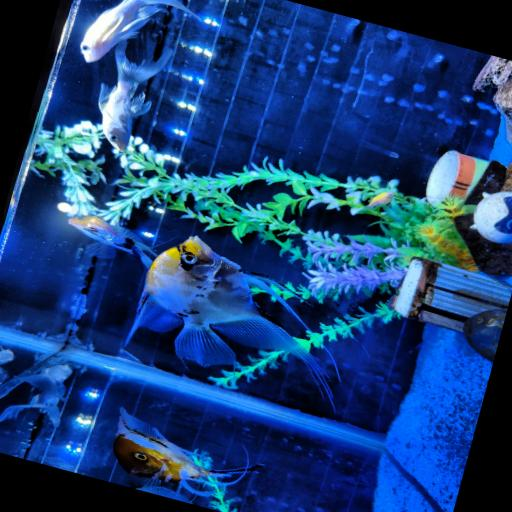Fish: (127, 235, 320, 373), (114, 407, 263, 495), (99, 40, 172, 150), (81, 0, 200, 62), (68, 215, 157, 268), (0, 364, 73, 426), (138, 485, 189, 502), (0, 349, 15, 383), (369, 190, 394, 206)
